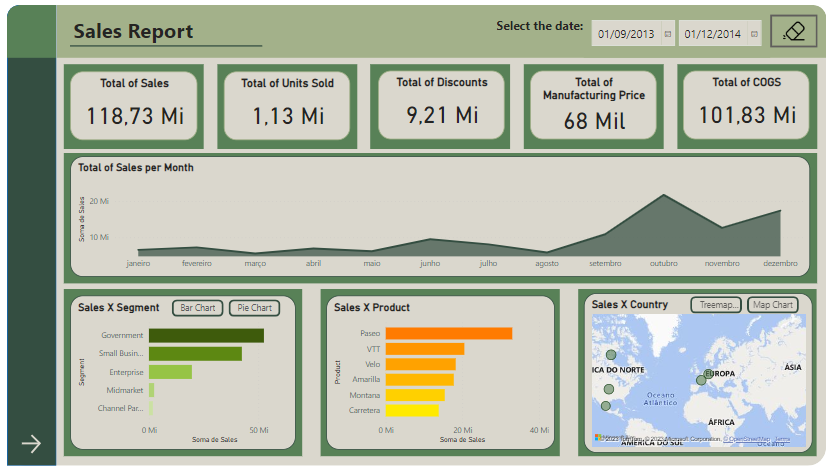

The page's visual inventory and layout, read from the dashboard file:
{"tool":"powerbi","page":{"name":"Página 1","canvas":[1280,720],"ordinal":0},"visuals":[{"type":"shape","box":[0,0,1280,720],"z":0},{"type":"textbox","box":[98.6,11.4,300,71.4],"z":0,"group":"g5"},{"type":"textbox","box":[760,14.3,155.7,65.7],"z":0,"group":"g2"},{"type":"shape","box":[88.1,92.4,218.6,132.9],"z":0,"group":"g1"},{"type":"map","title":"Sales X Country","fields":{"Category":["financials.Country"],"Size":["Sum(financials. Sales)"]},"box":[901.5,450,357.1,250],"z":0,"group":"g3"},{"type":"slicer","fields":{"Values":["financials.Date"]},"box":[901.4,14.3,291.4,68.6],"z":1000,"group":"g2"},{"type":"shape","box":[98.6,47.1,300,32.9],"z":1000,"group":"g5"},{"type":"shape","box":[327.7,92.4,218.6,132.9],"z":1000,"group":"g1"},{"type":"clusteredBarChart","title":"Sales X Segment ","fields":{"Y":["Sum(financials. Sales)"],"Category":["financials.Segment"]},"box":[98.6,454.3,352.9,241.4],"z":1000,"group":"g4"},{"type":"actionButton","box":[17.1,665.7,60,40],"z":1000},{"type":"actionButton","title":"Botão - treemap","box":[1067.5,455.6,81,27],"z":1250,"group":"g3"},{"type":"actionButton","title":"Botão - map","box":[1156.5,455.6,81,27],"z":1500,"group":"g3"},{"type":"shape","box":[0,0,77.1,720],"z":2000},{"type":"actionButton","box":[1192.9,15.7,74.3,51.4],"z":2000,"group":"g2"},{"type":"shape","box":[567.4,92.4,218.6,132.9],"z":2000,"group":"g1"},{"type":"actionButton","title":"Botão - bar","box":[257,461,81,27],"z":2000,"group":"g4"},{"type":"image","title":"eraser","box":[1197.1,19.6,62.9,44.3],"z":2500,"group":"g2"},{"type":"shape","box":[0,0,77.1,82.9],"z":3000},{"type":"shape","box":[807,92.4,218.6,132.9],"z":3000,"group":"g1"},{"type":"actionButton","title":"Botão - pie","box":[346,461,81,27],"z":3000,"group":"g4"},{"type":"shape","box":[77.1,0,1202.9,82.9],"z":4000},{"type":"shape","box":[1046.7,92.4,218.6,132.9],"z":4000,"group":"g1"},{"type":"group","id":"g1","title":"Cartões","box":[88.1,92.4,1177.8,343.3],"z":5000},{"type":"shape","box":[88.7,231.4,1177.1,204.3],"z":5000,"group":"g1"},{"type":"shape","box":[88.6,444.3,372.9,261.4],"z":6000},{"type":"shape","box":[892.9,444.3,372.9,261.4],"z":7000},{"type":"shape","box":[490,444.3,374.3,261.4],"z":8000},{"type":"areaChart","title":"Total of Sales per Month ","fields":{"Y":["Sum(financials. Sales)"],"Category":["financials.Date.Variation.Hierarquia de datas.Mês"]},"box":[98.6,236.7,1155.7,189],"z":9000},{"type":"card","title":"Total of Sales ","fields":{"Values":["Sum(financials. Sales)"]},"box":[98.1,103.3,198.6,107.1],"z":10000},{"type":"card","title":"Total of Units Sold","fields":{"Values":["Sum(financials.Units Sold)"]},"box":[338.1,103.3,197.1,107.1],"z":11000},{"type":"card","title":"Total of Discounts","fields":{"Values":["Sum(financials.Discounts)"]},"box":[579.6,102.7,197,107],"z":12000},{"type":"card","title":"Total of Manufacturing Price","fields":{"Values":["Sum(financials.Manufacturing Price)"]},"box":[817.6,102.7,197,107],"z":13000},{"type":"card","title":"Total of COGS","fields":{"Values":["Sum(financials.COGS)"]},"box":[1056.6,102.7,197,107],"z":14000},{"type":"clusteredBarChart","title":"Sales X Product","fields":{"Y":["Sum(financials. Sales)"],"Category":["financials.Product"]},"box":[498.6,454.3,357.1,241.4],"z":15000},{"type":"group","id":"g2","title":"Filtro Data","box":[760,14.3,507.1,68.6],"z":16000},{"type":"group","id":"g3","title":"Sales X Country","box":[898.6,450,360,250],"z":17000},{"type":"group","id":"g4","title":"Sales X Segment","box":[98.6,454.3,352.9,245.7],"z":18000},{"type":"group","id":"g5","title":"report_title","box":[98.6,11.4,300,71.4],"z":19000},{"type":"actionButton","box":[17.1,665.7,60,40],"z":20000}]}

Visuals, with their boxes in screenshot pixels (x1, y1, x2, y2), scaled from the page's 1280x720 canvas onto the 828x471 screenshot:
shape: BBox(0, 0, 827, 470)
textbox: BBox(64, 7, 258, 54)
textbox: BBox(492, 9, 592, 52)
shape: BBox(57, 60, 198, 147)
"Sales X Country" map: BBox(583, 294, 814, 458)
slicer - financials.Date: BBox(583, 9, 772, 54)
shape: BBox(64, 31, 258, 52)
shape: BBox(212, 60, 353, 147)
"Sales X Segment " clusteredBarChart: BBox(64, 297, 292, 455)
actionButton: BBox(11, 435, 50, 462)
"Botão - treemap" actionButton: BBox(691, 298, 743, 316)
"Botão - map" actionButton: BBox(748, 298, 801, 316)
shape: BBox(0, 0, 50, 470)
actionButton: BBox(772, 10, 820, 44)
shape: BBox(367, 60, 508, 147)
"Botão - bar" actionButton: BBox(166, 302, 219, 319)
"eraser" image: BBox(774, 13, 815, 42)
shape: BBox(0, 0, 50, 54)
shape: BBox(522, 60, 663, 147)
"Botão - pie" actionButton: BBox(224, 302, 276, 319)
shape: BBox(50, 0, 827, 54)
shape: BBox(677, 60, 818, 147)
"Cartões" group: BBox(57, 60, 819, 285)
shape: BBox(57, 151, 819, 285)
shape: BBox(57, 291, 299, 462)
shape: BBox(578, 291, 819, 462)
shape: BBox(317, 291, 559, 462)
"Total of Sales per Month " areaChart: BBox(64, 155, 811, 278)
"Total of Sales " card: BBox(63, 68, 192, 138)
"Total of Units Sold" card: BBox(219, 68, 346, 138)
"Total of Discounts" card: BBox(375, 67, 502, 137)
"Total of Manufacturing Price" card: BBox(529, 67, 656, 137)
"Total of COGS" card: BBox(683, 67, 811, 137)
"Sales X Product" clusteredBarChart: BBox(323, 297, 554, 455)
"Filtro Data" group: BBox(492, 9, 820, 54)
"Sales X Country" group: BBox(581, 294, 814, 458)
"Sales X Segment" group: BBox(64, 297, 292, 458)
"report_title" group: BBox(64, 7, 258, 54)
actionButton: BBox(11, 435, 50, 462)
